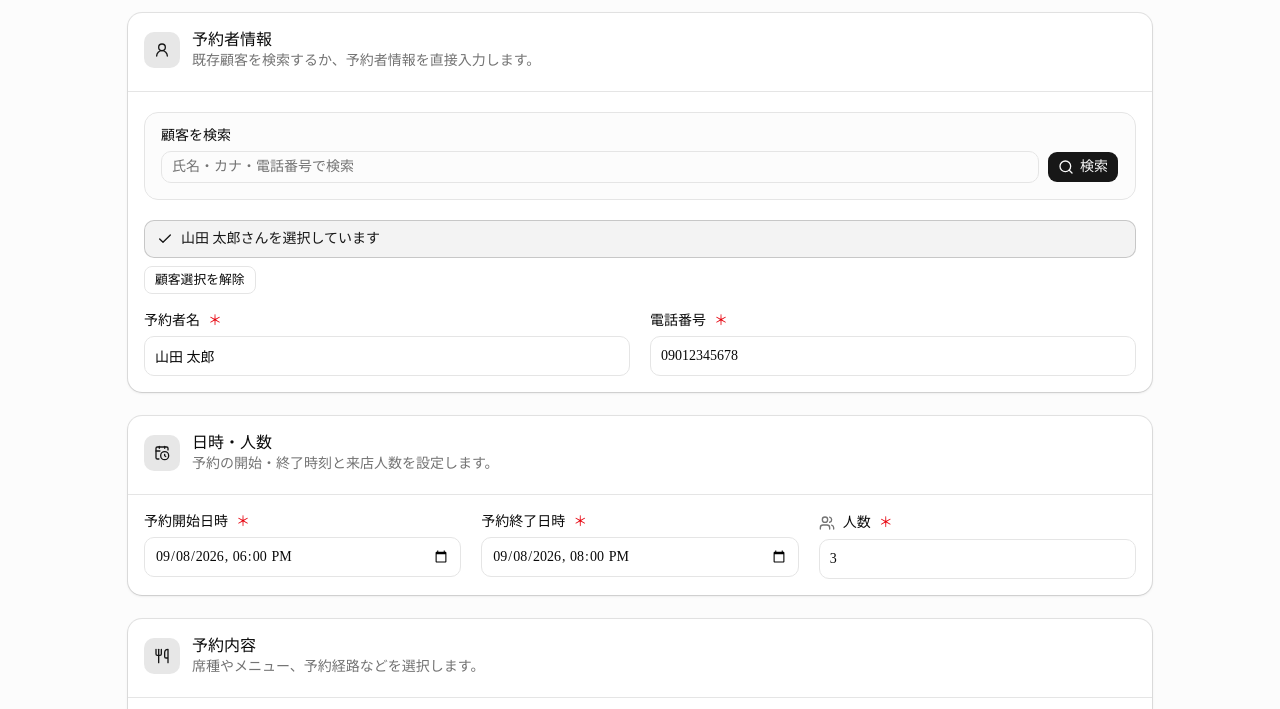
Test: EditReservationFormContainer › 更新APIが422の項目別エラーを返すと、該当項目にエラーを表示する
// 変更がないと「更新する」が無効になるため、値を変更する
Replace the text in the number field labelled "人数 ＊" with "4": (977, 559) [819, 539, 1136, 579]
(page scrolled)
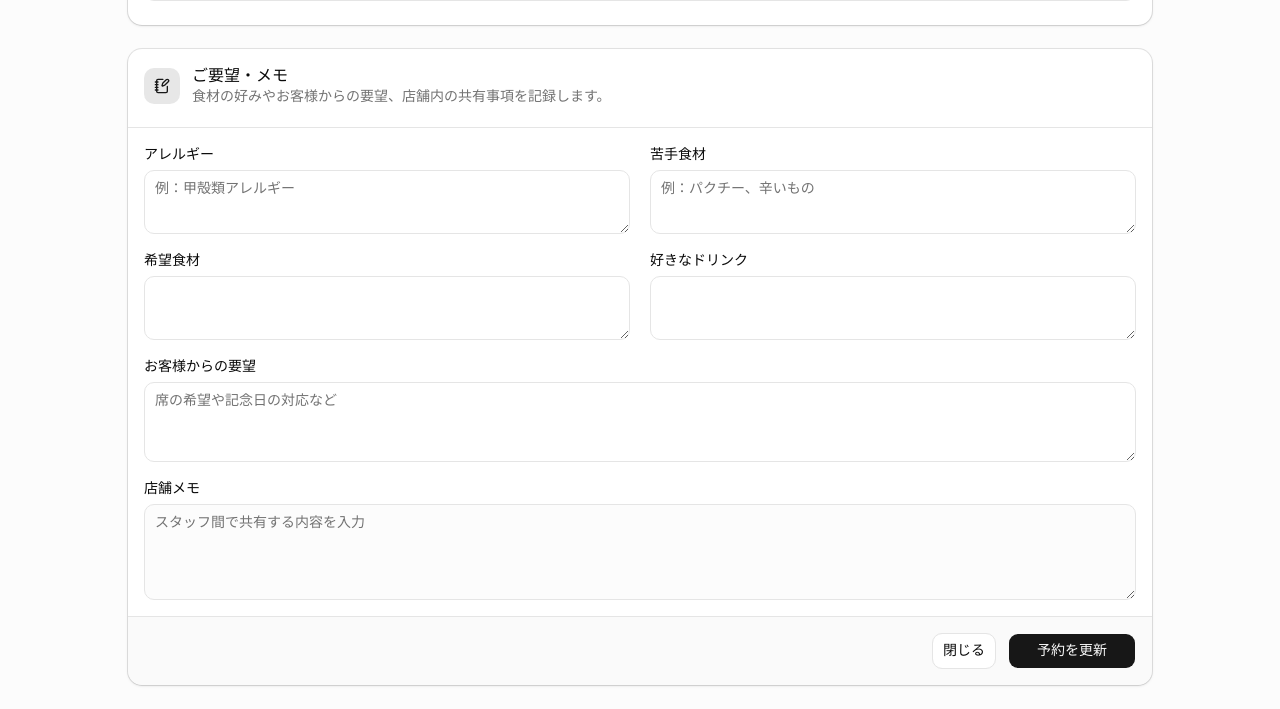
Click the button "予約を更新": (1072, 651) [1008, 633, 1136, 669]
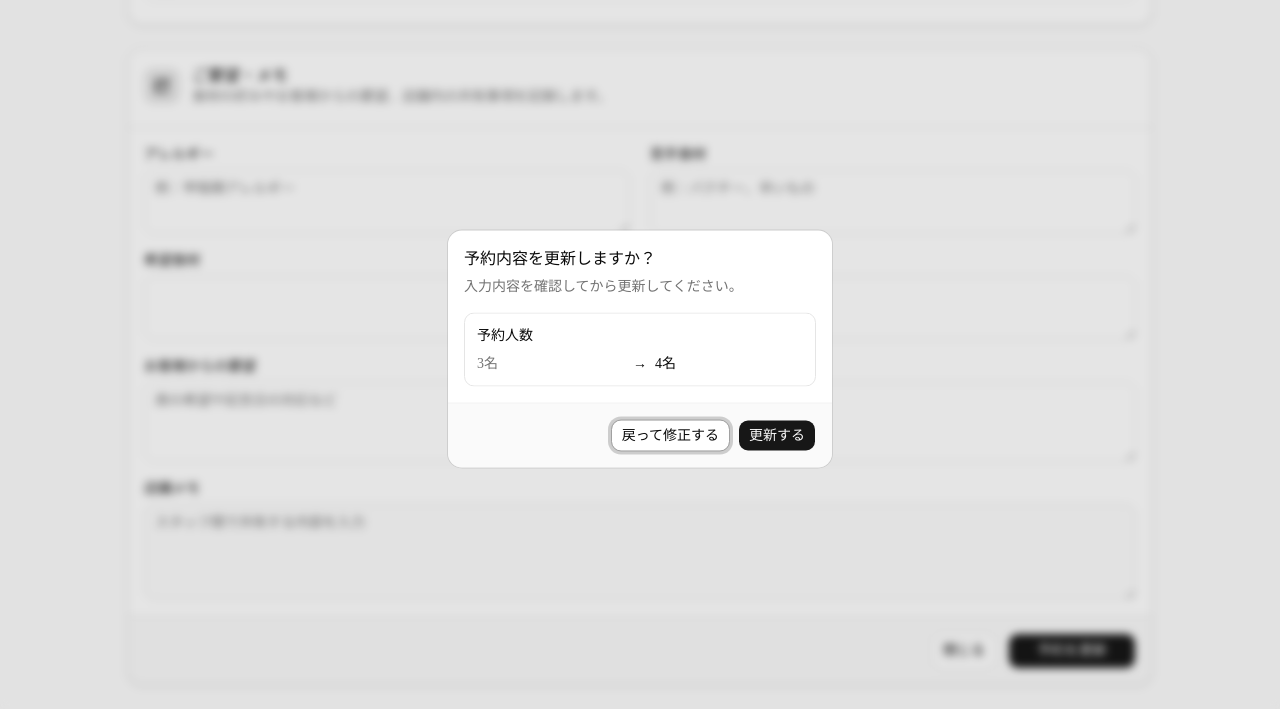
Click the button "更新する": (777, 436) [738, 420, 816, 452]
(page scrolled)
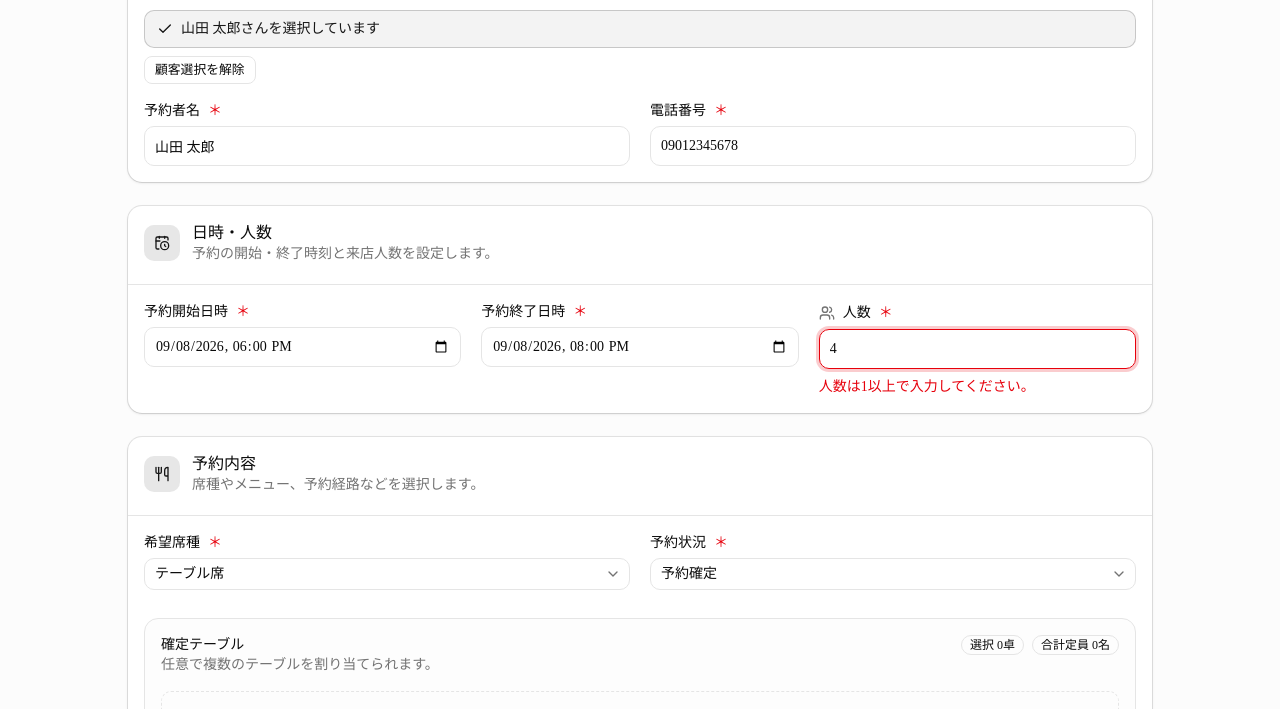
Check: the text "人数は1以上で入力してください。" is shown, box [819, 379, 1035, 394]
Check: the heading "予約内容を更新しますか？" is gone
